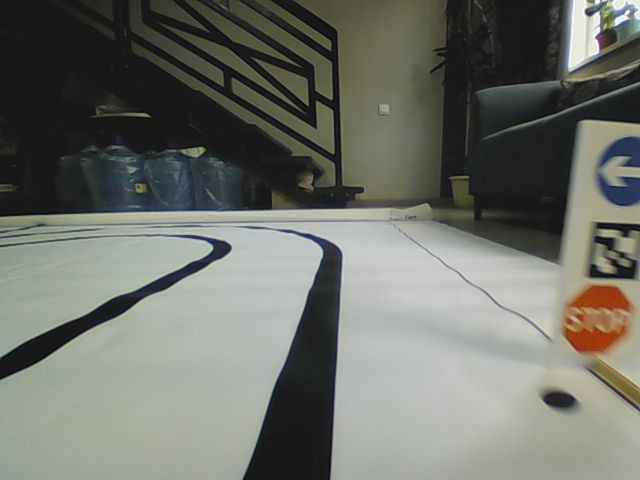Stop: (562, 282, 634, 355)
